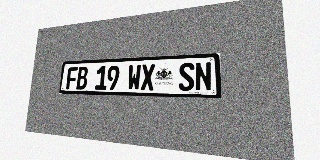1: (95, 66, 108, 90)
9: (107, 65, 120, 90)
B: (76, 66, 88, 90)
F: (66, 67, 78, 89)
N: (195, 62, 212, 91)
S: (179, 62, 194, 91)
W: (127, 64, 141, 90)
X: (141, 64, 155, 91)
